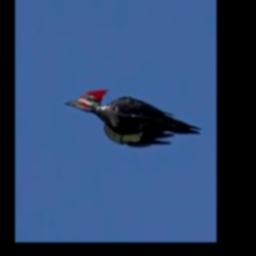Woodpecker: (65, 89, 202, 146)
